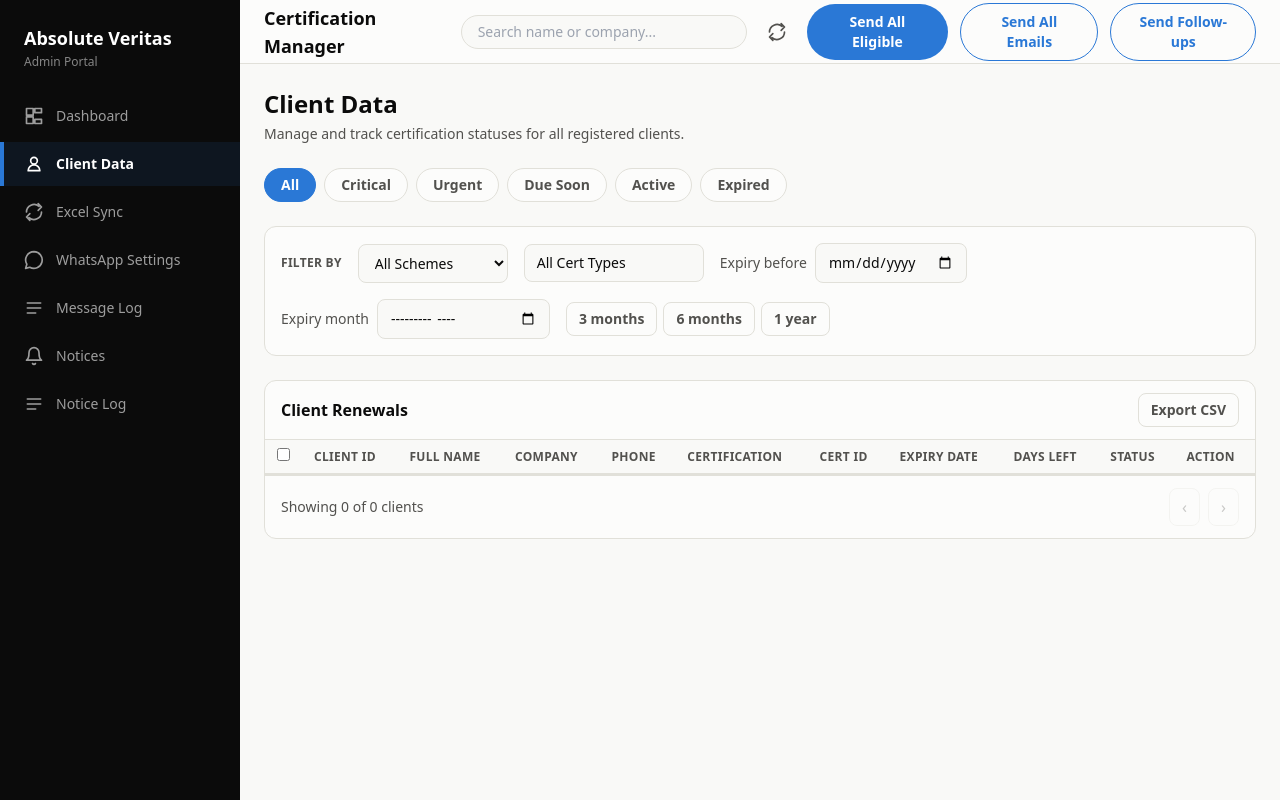
Test: App follow-ups › opens a confirmation modal showing the eligible count and does not send yet
Click the button "Send Follow-ups": (1183, 32) [1110,2,1256,60]
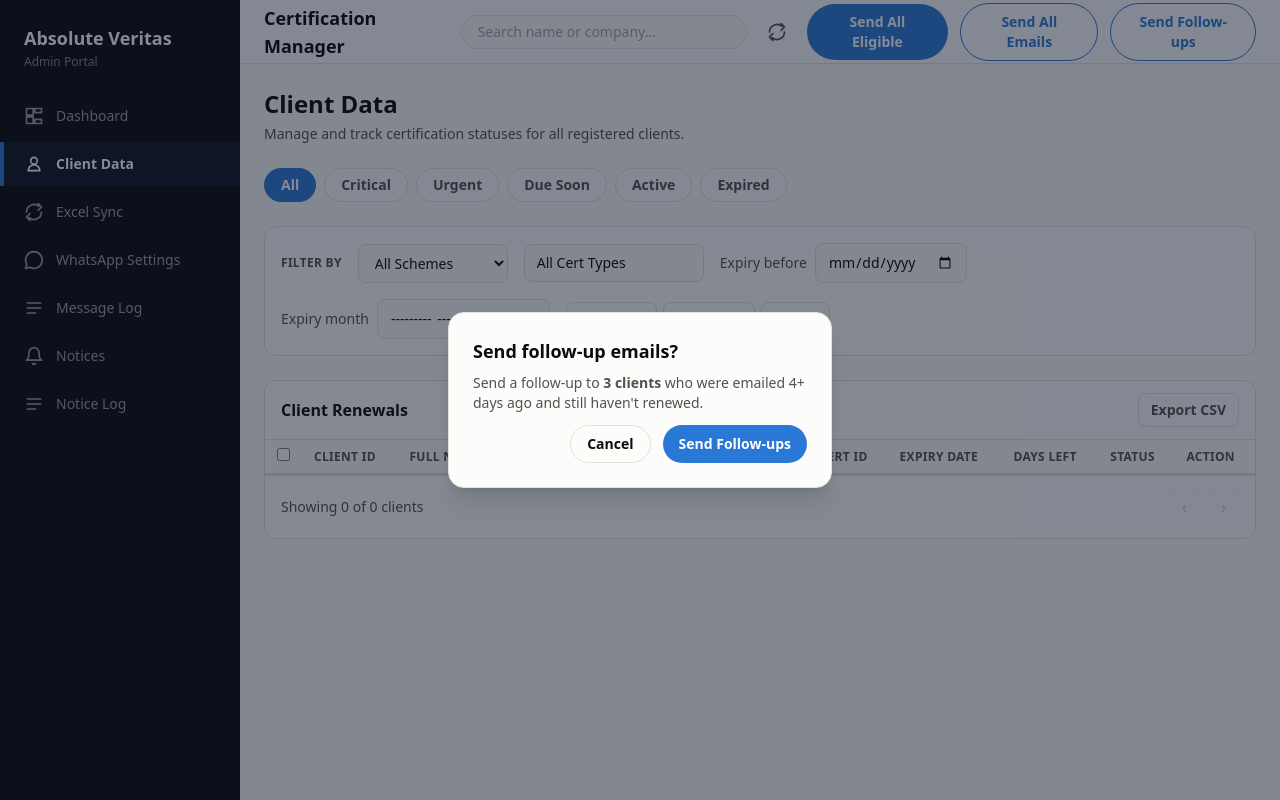
Expected: the text "3 clients" is shown, [603,373,661,392]
